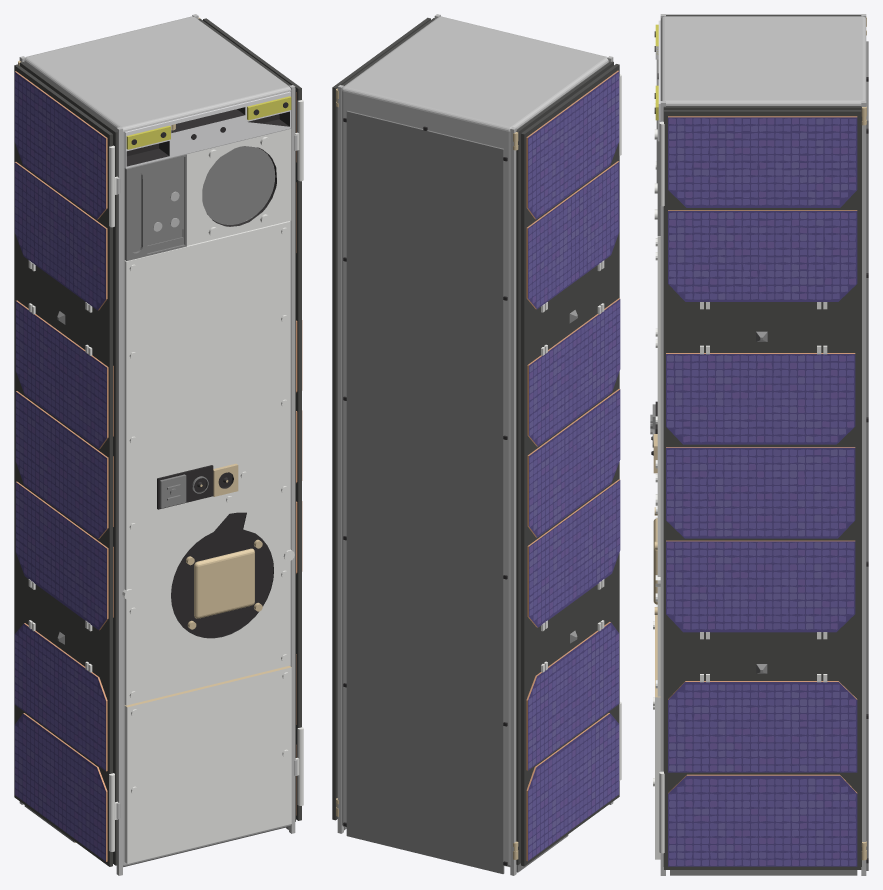
The model's file is cubesat-low.glb.
3 renders of one model, left to right at view 1: azimuth 30°, elevation 25°; view 2: azimuth 150°, elevation 25°; view 3: azimuth 270°, elevation 25°, orthographic. The views are drawn at different scales.
Visible parts, largest first — view 1: Layer_0; view 2: Layer_0; view 3: Layer_0.
Boxes of the visible parts, x1,y1,x2,y2 form: Layer_0: (14,14,303,875); Layer_0: (332,14,621,875); Layer_0: (650,14,868,875).
Size of the model in its own units: 2.34 by 8.29 by 2.12.
3 materials, 3 textured.
